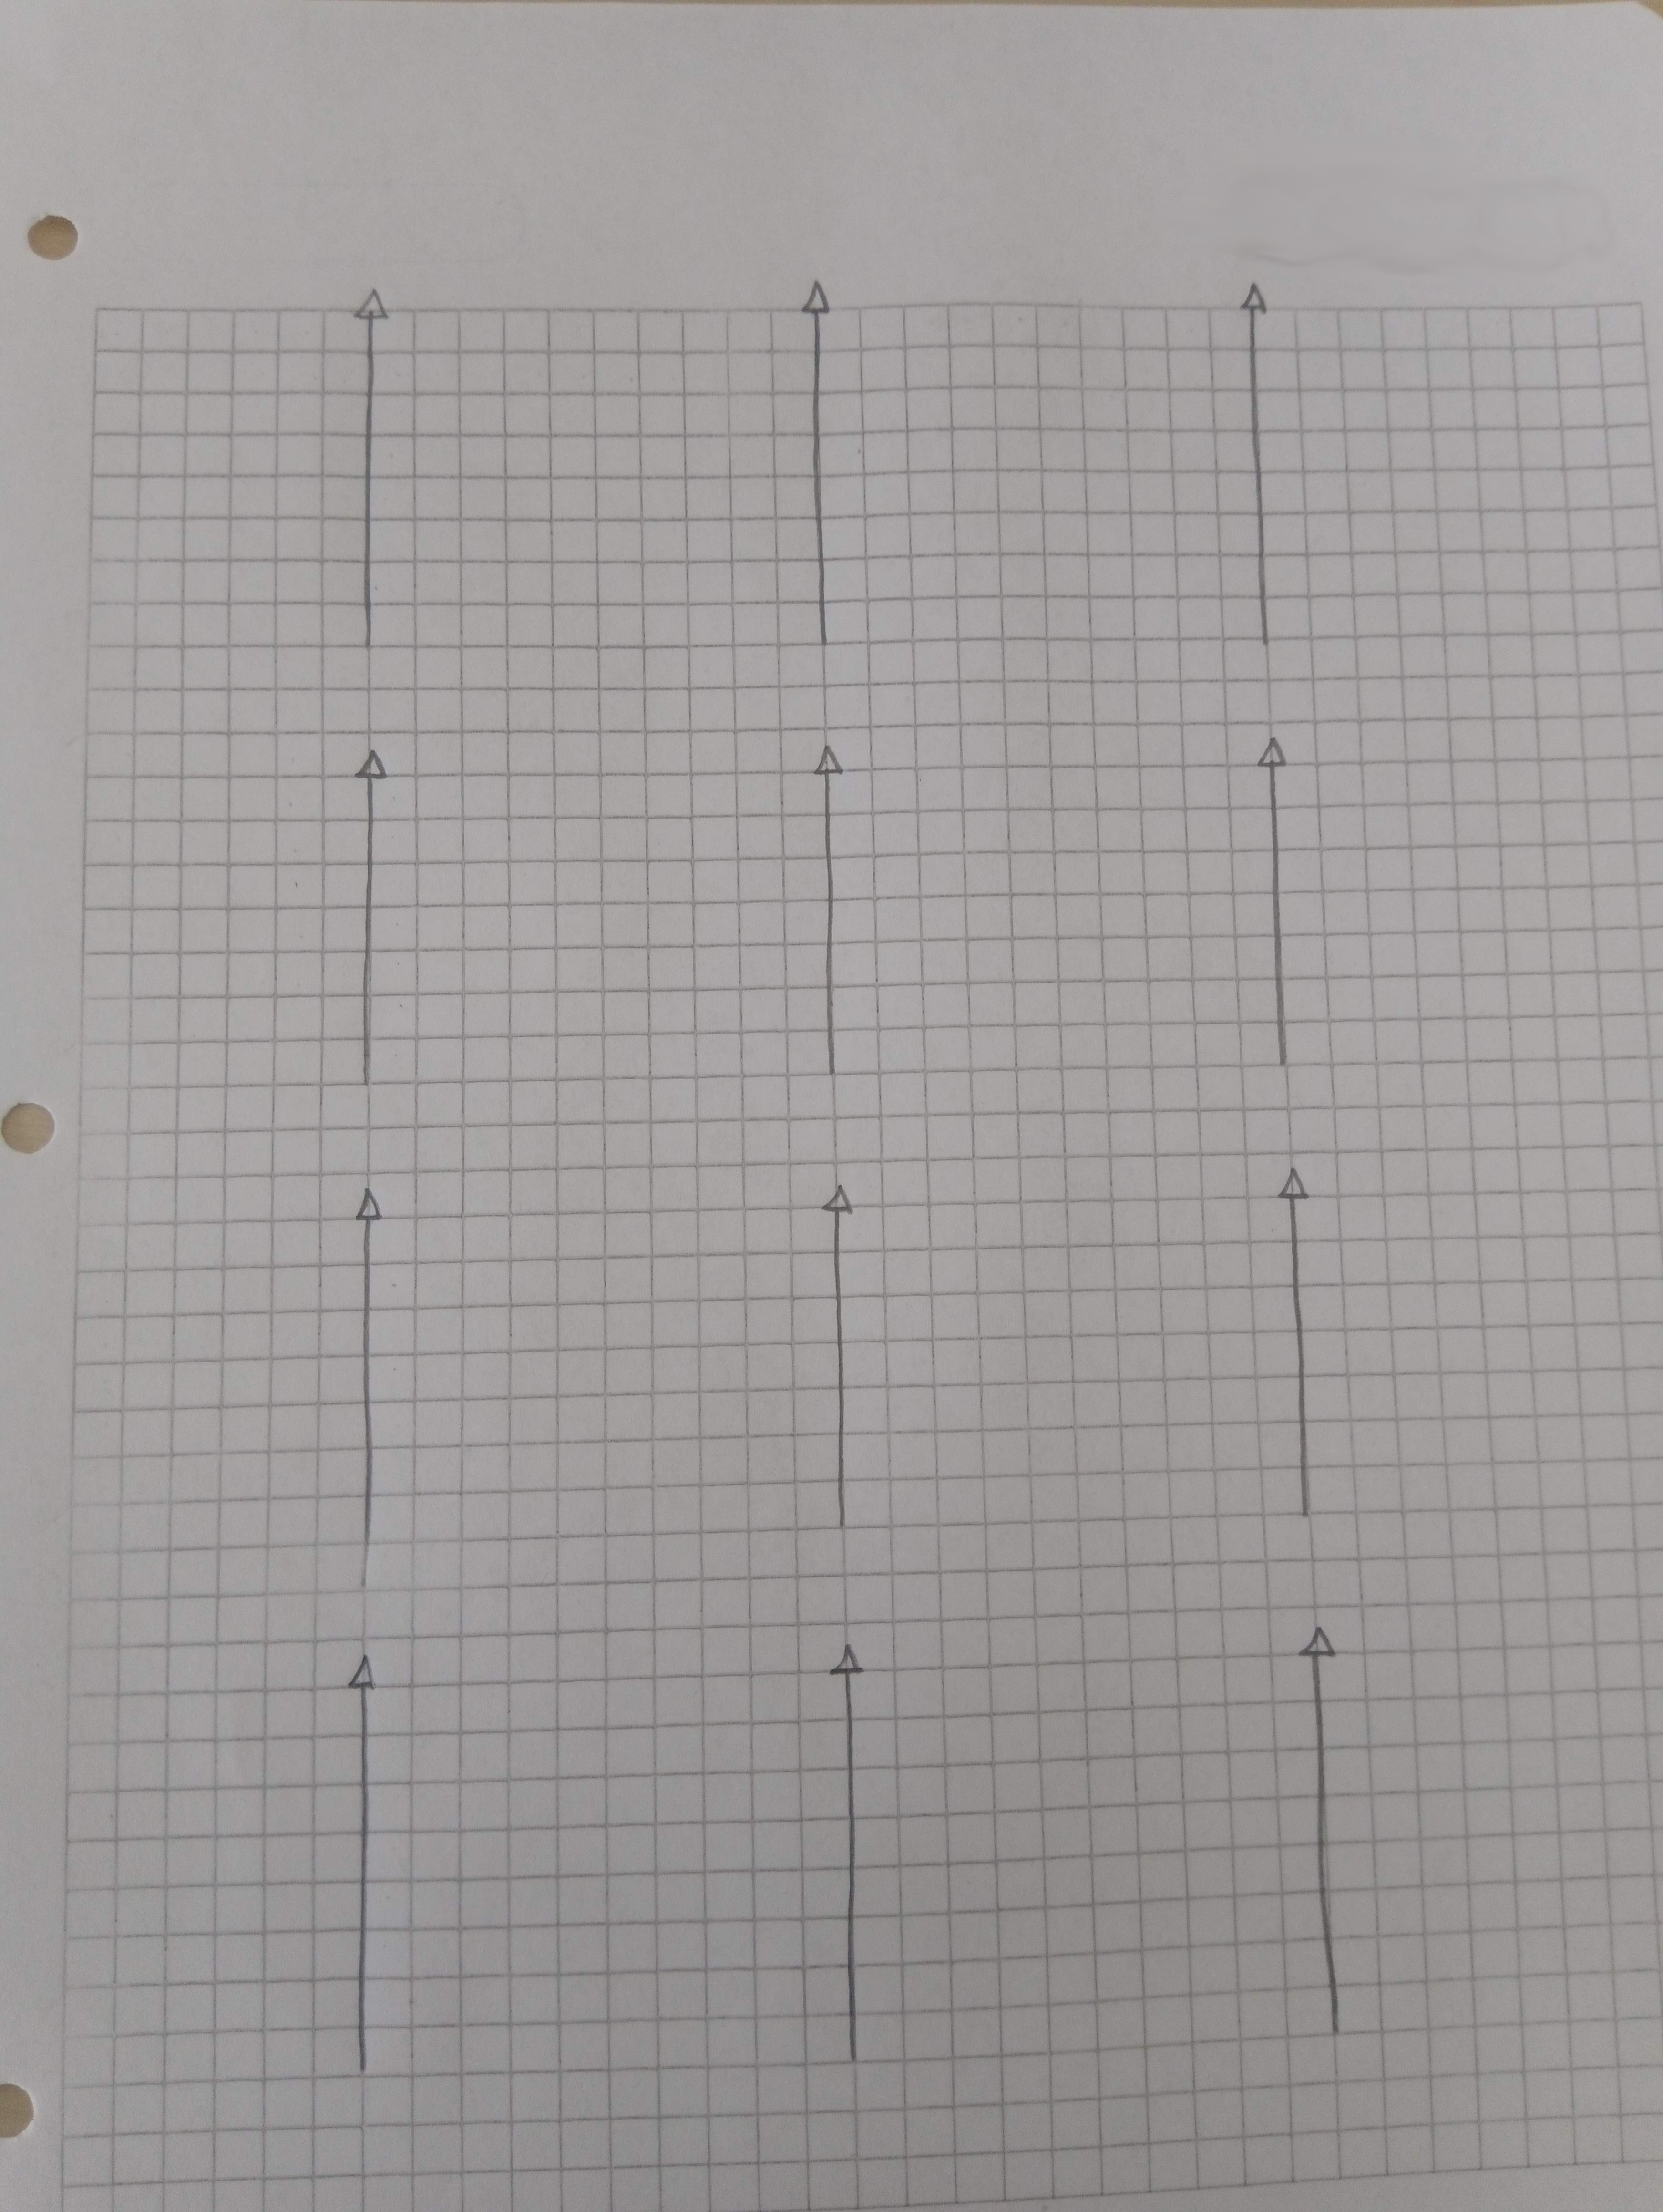arrow_line_up: (327, 1652, 451, 2112), (1289, 1627, 1401, 2034), (812, 1631, 905, 2104), (1216, 257, 1308, 693), (320, 267, 414, 660), (1244, 737, 1343, 1074), (328, 1182, 417, 1554), (797, 1156, 886, 1512), (328, 737, 421, 1070), (1280, 1140, 1356, 1550), (777, 251, 856, 632), (812, 732, 886, 1093)
